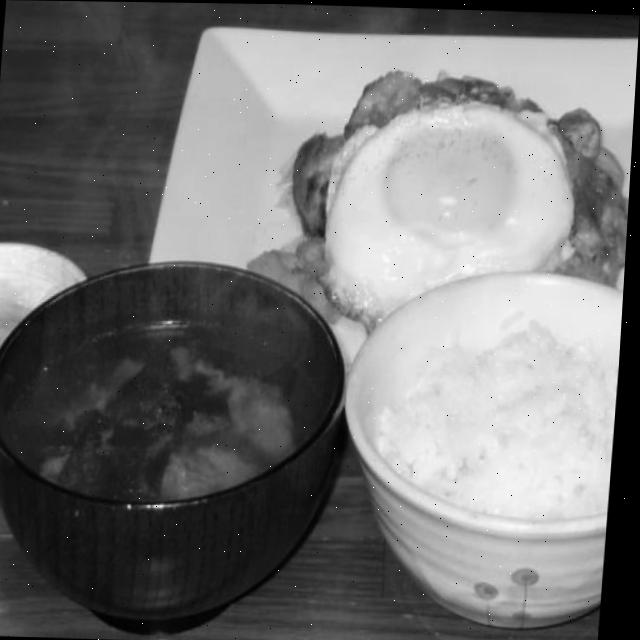米饭主食: (324, 260, 628, 638)
